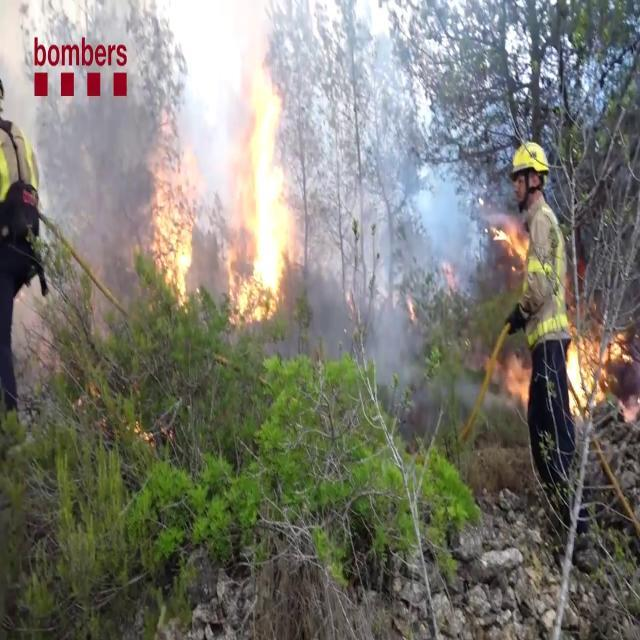Fire: (231, 37, 294, 315), (143, 130, 204, 304), (564, 317, 638, 419)
Smoke: (30, 3, 493, 262)
